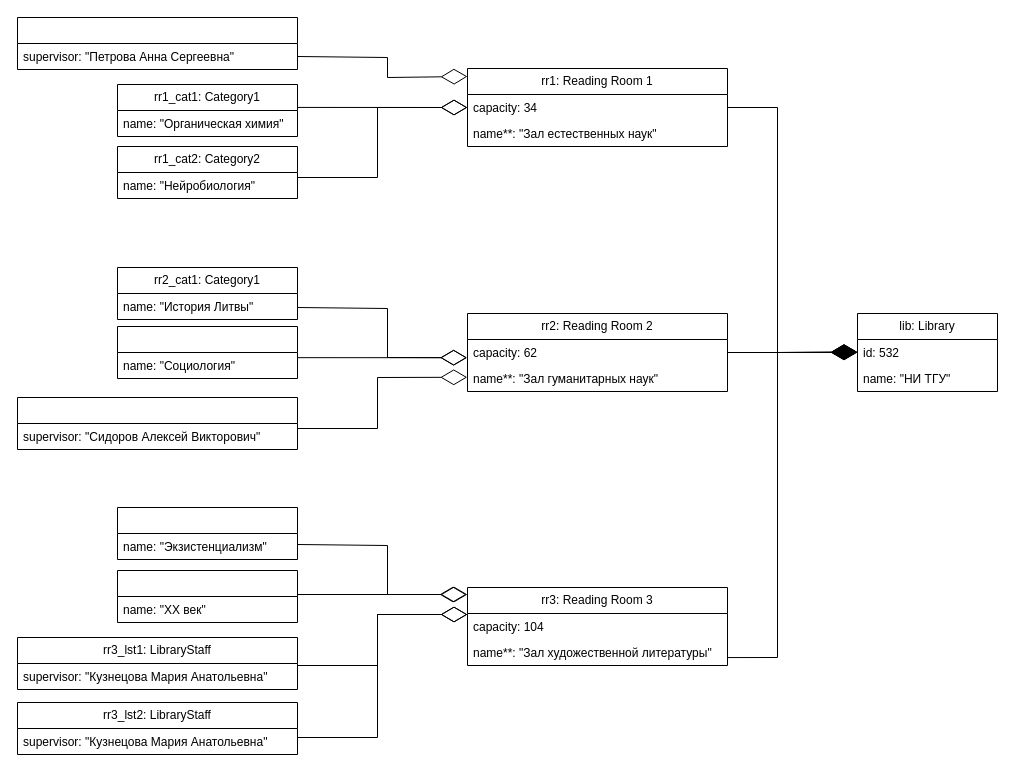
Some shapes in this 1015 by 781 pixel diagram are drawn without their labels. The shapes that lost their labels are listed below. From the top down, each one's box as (x1, y1, x2, y2) in pixels, then its label:
(16, 16, 298, 70): rr1_lst1: LibraryStaff
(116, 326, 298, 378): rr2_cat2: Category2
(16, 396, 298, 450): rr2_lst1: LibraryStaff
(116, 506, 298, 560): rr3_cat1: Category1
(116, 570, 298, 622): rr3_cat2: Category2
